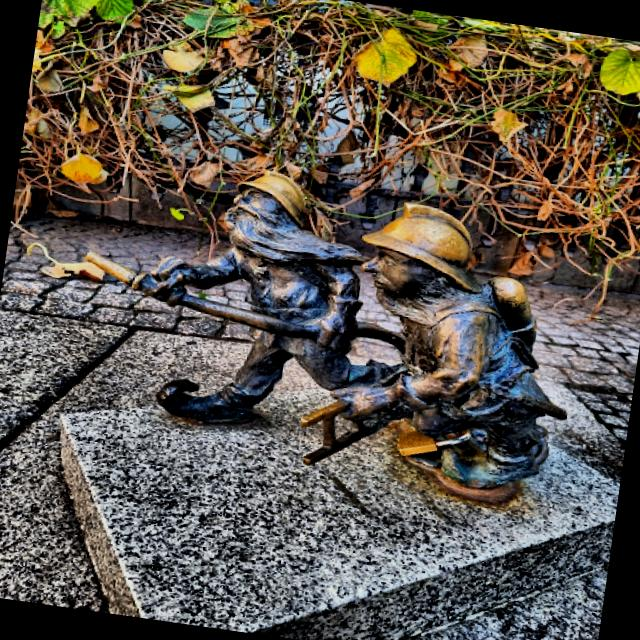Pozarki: (87, 172, 566, 505)
